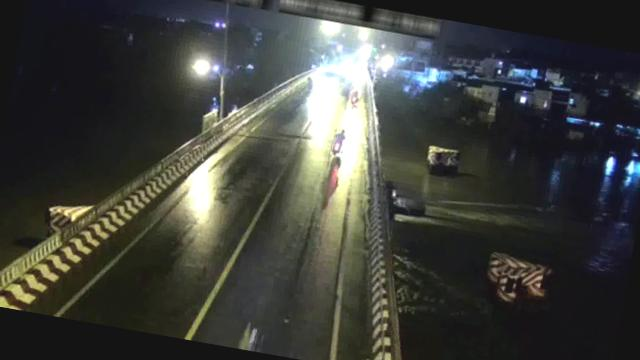Bike: (332, 124, 350, 158), (338, 77, 356, 97), (348, 88, 362, 106)
